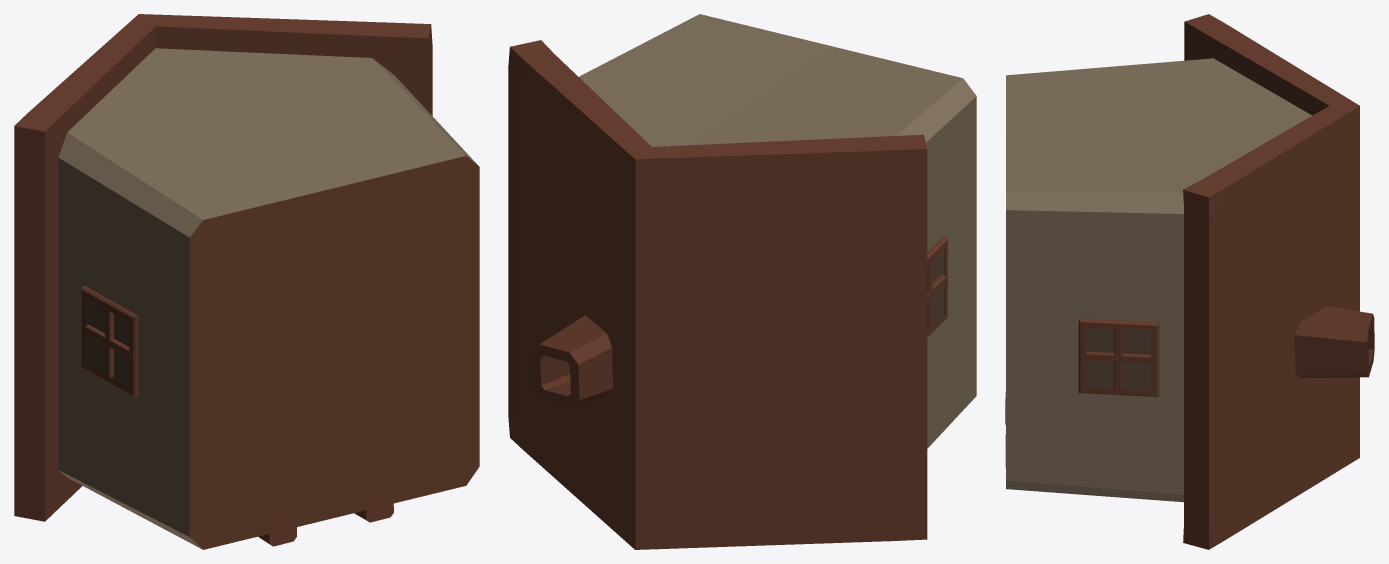
Rendered from House.fbx.
3 views of the same model, side by side, from view 1: azimuth 30°, elevation 25°; view 2: azimuth 150°, elevation 25°; view 3: azimuth 270°, elevation 25° (orthographic). The views are drawn at different scales.
Visible parts, largest first — view 1: Cube; view 2: Cube; view 3: Cube.
Boxes of the visible parts, x1,y1,x2,y2 form: Cube: (14,14,479,549); Cube: (508,14,976,549); Cube: (1005,14,1374,549).
Size of the model in its own units: 285 by 255 by 242.
